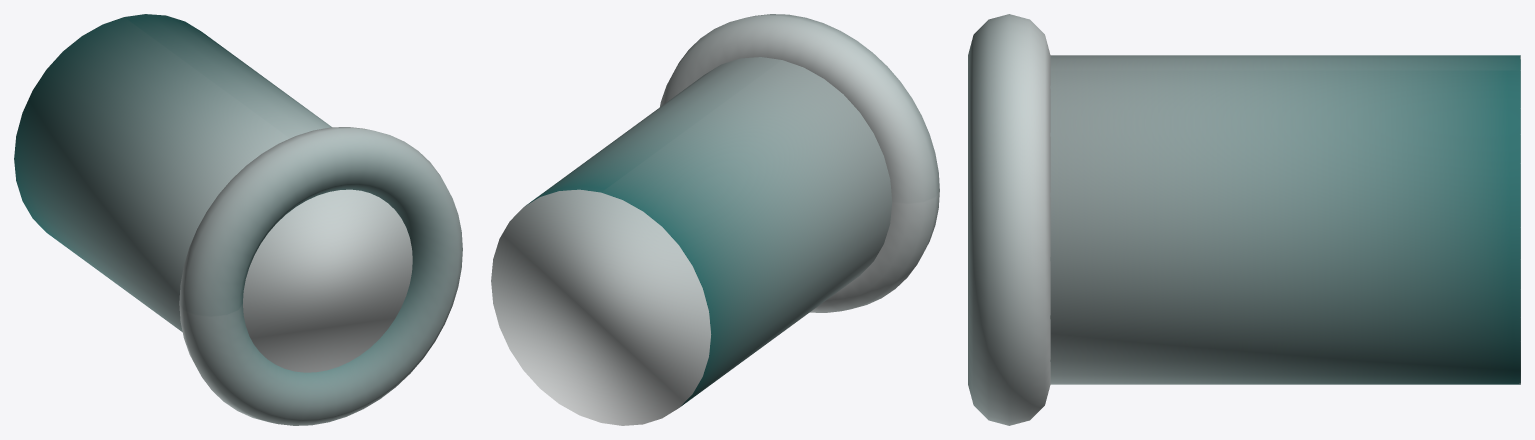
The model's file is Pipe.gltf.
3 renders of one model, left to right at view 1: azimuth 30°, elevation 25°; view 2: azimuth 150°, elevation 25°; view 3: azimuth 270°, elevation 25°, orthographic. The views are drawn at different scales.
Visible parts, largest first — view 1: Cylinder, Torus; view 2: Cylinder, Torus; view 3: Cylinder, Torus.
Part boxes in pixels (x1,y1,x2,y2): Cylinder: [14, 14, 412, 372]; Torus: [179, 127, 462, 425]; Cylinder: [491, 57, 892, 425]; Torus: [660, 14, 939, 312]; Cylinder: [1050, 55, 1520, 384]; Torus: [968, 14, 1050, 425].
Bounding box in the file's own units: 2.5 × 2.5 × 3.35.
Materials: 2 (2 with a texture image).
